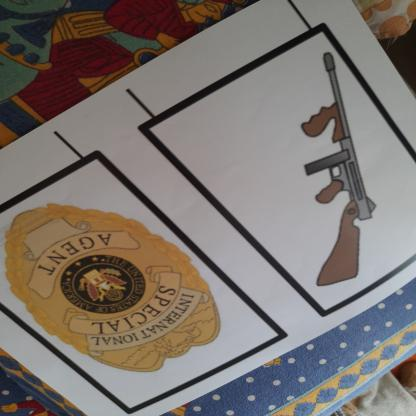Bootlegger: (272, 38, 408, 312)
G-man: (2, 195, 234, 383)
